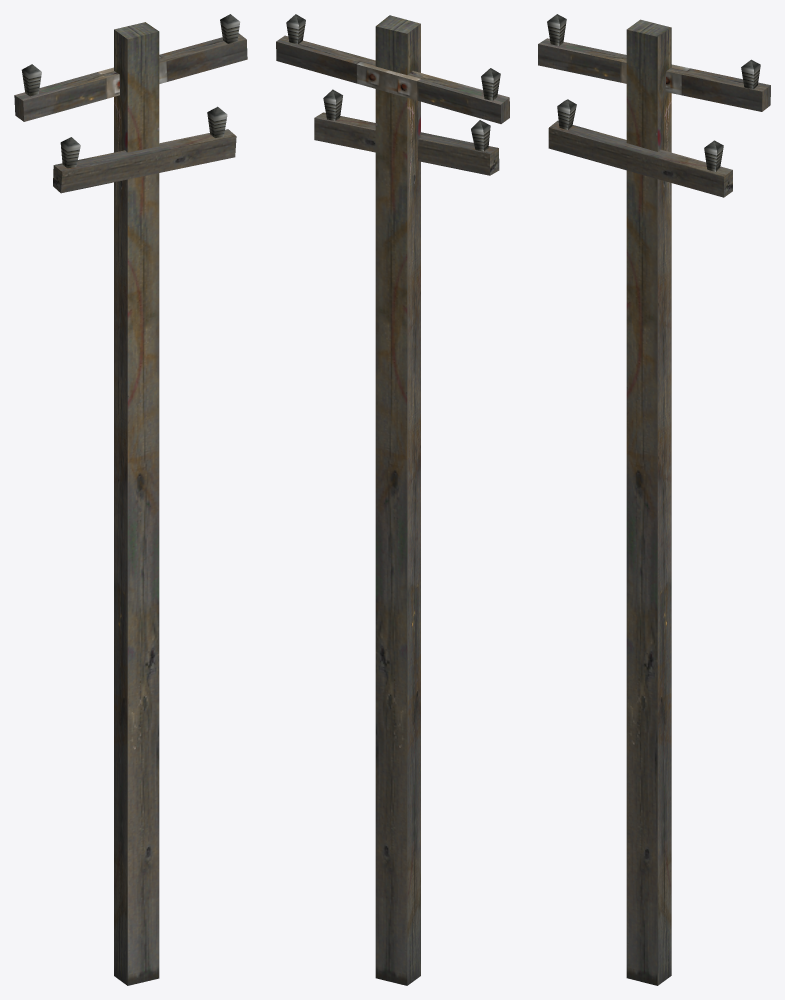
Rendered from pylon.fbx.
3 renders of one model, left to right at view 1: azimuth 30°, elevation 25°; view 2: azimuth 150°, elevation 25°; view 3: azimuth 330°, elevation 25°, orthographic.
Visible parts, largest first — view 1: pylon01; view 2: pylon01; view 3: pylon01.
Part boxes in pixels (x1,y1,x2,y2): pylon01: (14, 14, 247, 985); pylon01: (276, 14, 509, 985); pylon01: (538, 14, 770, 985).
Bounding box in the file's own units: 166 × 669 × 30.09.
1 material, 1 textured.
